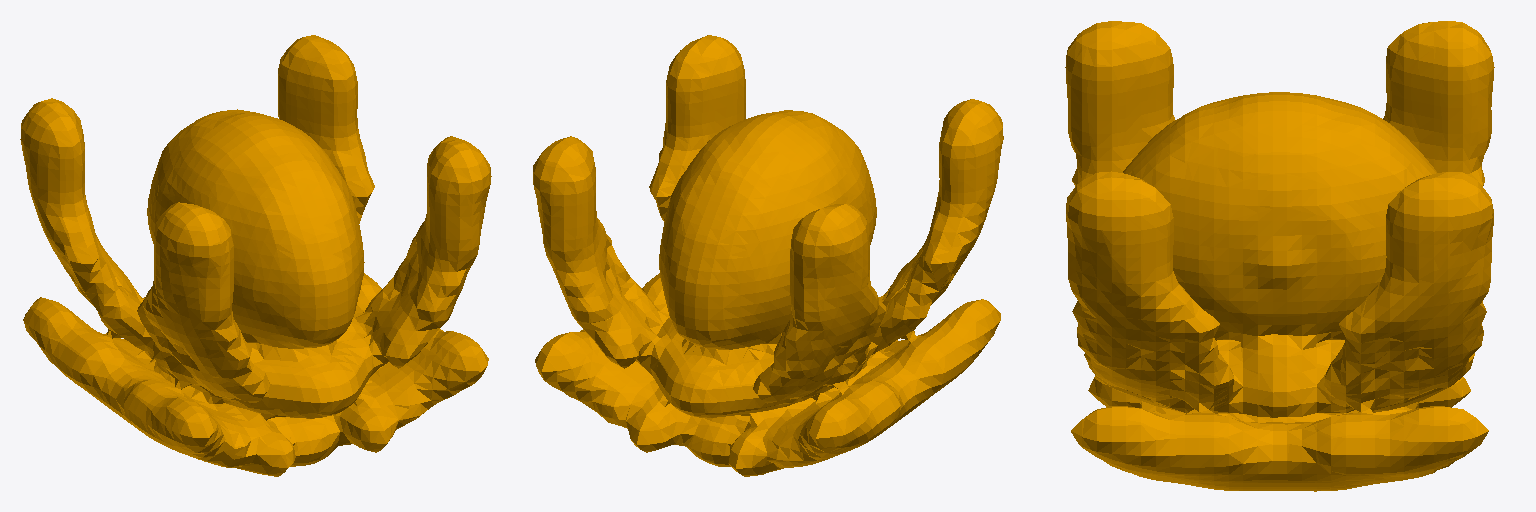
robot.urdf — object:
<?xml version="1.0"?>
        <robot name="object">
          <link name="object">
            <visual>
              <origin xyz="0.0 0.0 0.0"/>
              <geometry>
                <mesh filename="B6.stl" scale="1.00 1.00 1.00"/>
              </geometry>
            </visual>
            <collision>
              <origin xyz="0.0 0.0 0.0"/>
              <geometry>
                <mesh filename="B6.stl" scale="1.00 1.00 1.00"/>
              </geometry>
            </collision>
          </link>
        </robot>

--- Render facts (derived) ---
The picture shows the robot from 3 angles, left to right: view 1: azimuth 30°, elevation 25°; view 2: azimuth 150°, elevation 25°; view 3: azimuth 270°, elevation 25°; orthographic projection.
Model object with 1 links and 0 joints (none), rooted at object, posed every joint at zero.
Visible links, largest first — view 1: object; view 2: object; view 3: object.
Link boxes in pixels (x1=…): object: x1=20, y1=35, x2=491, y2=476; object: x1=533, y1=35, x2=1003, y2=476; object: x1=1065, y1=21, x2=1494, y2=491.
Size in the robot's own frame: 0.1 by 0.0983 by 0.0918 metres.
Meshes: 1 distinct files referenced, 1 mesh visuals loaded (1 binary STL).